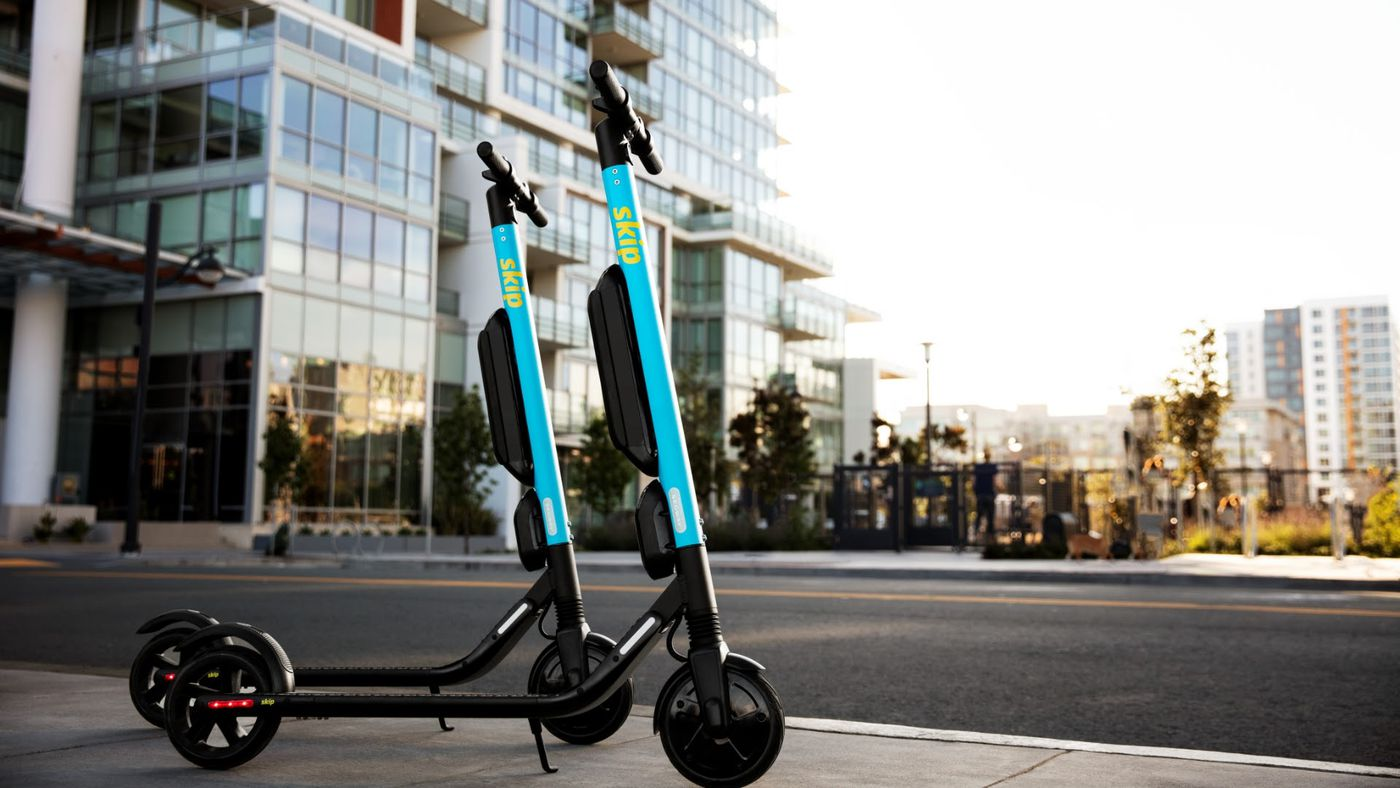scooter: (195, 26, 788, 788), (135, 141, 610, 716)
